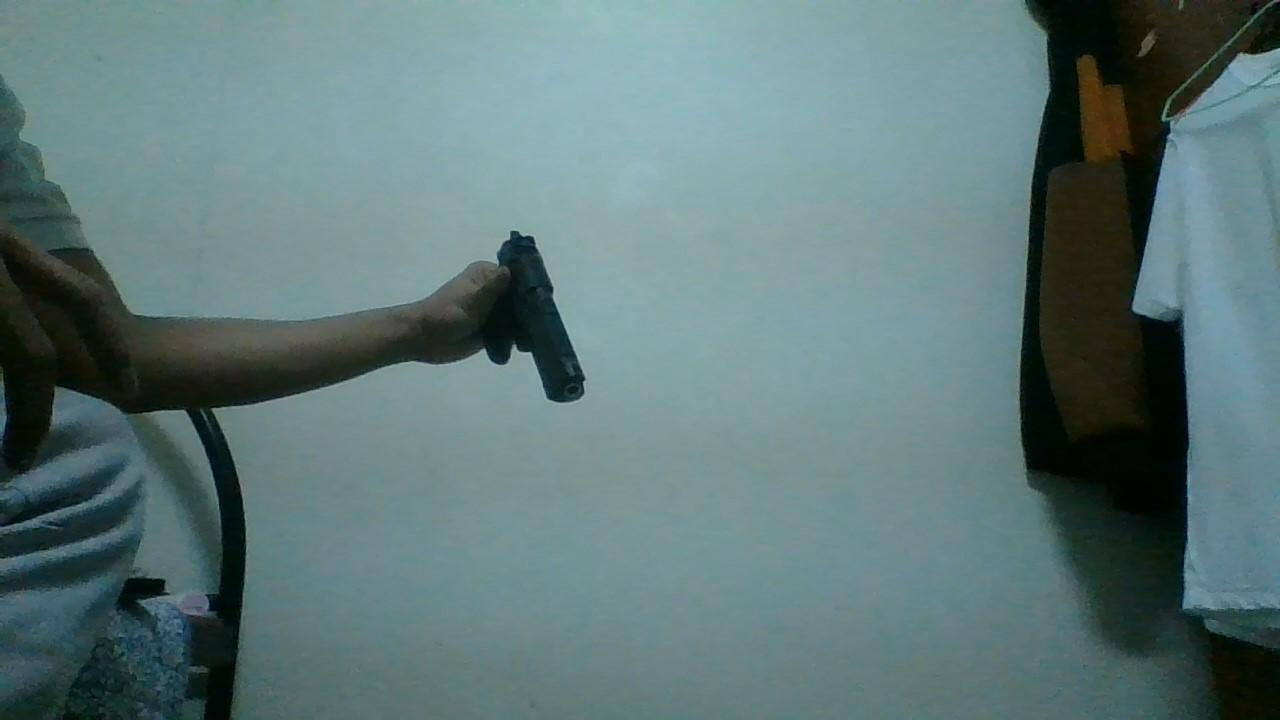weapon: (478, 225, 594, 408)
